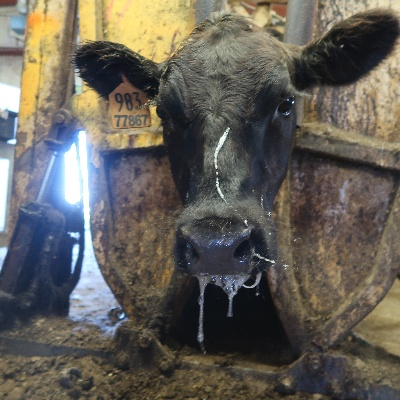fidget_spinner: (180, 220, 256, 281)
